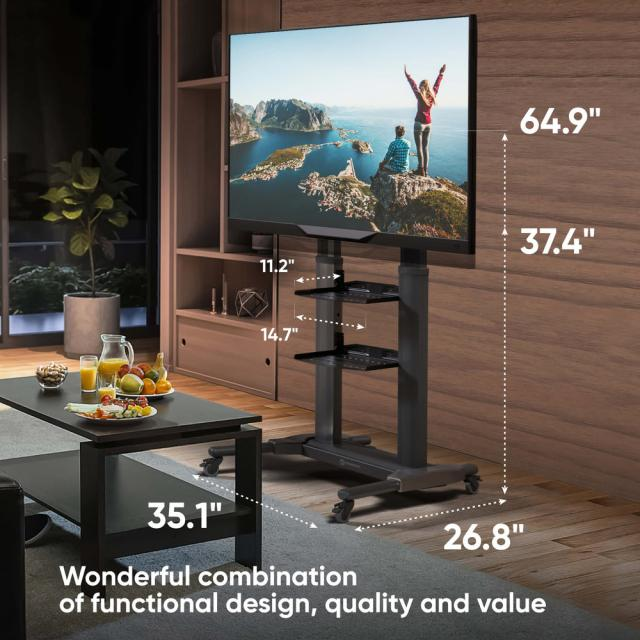electronics: (228, 16, 480, 521), (262, 238, 480, 521), (228, 16, 475, 253), (0, 473, 26, 637), (200, 445, 236, 474), (24, 513, 51, 546), (203, 447, 235, 474), (456, 256, 461, 259), (441, 255, 445, 257)
